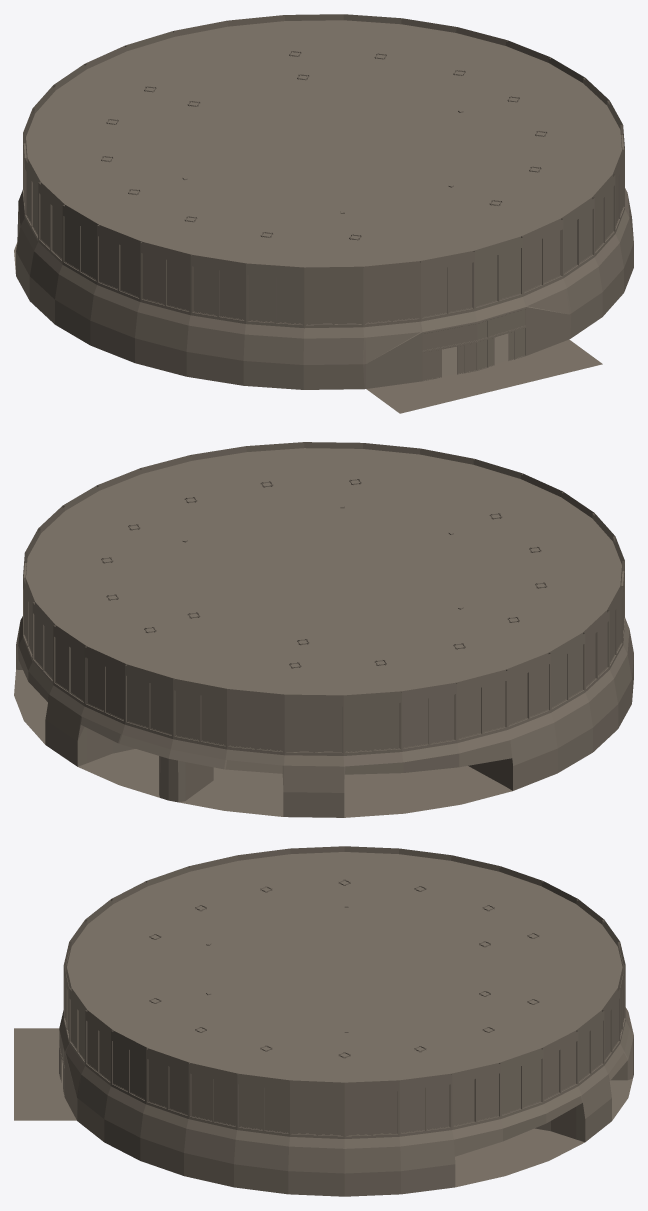
The model's file is Shopping_Mall_Entrance.fbx.
The picture shows the model from 3 angles, top to bottom: view 1: azimuth 30°, elevation 25°; view 2: azimuth 150°, elevation 25°; view 3: azimuth 270°, elevation 25°; orthographic projection. The views are drawn at different scales.
Parts seen in each view (by area): view 1: Shopping Mall Entrance; view 2: Shopping Mall Entrance; view 3: Shopping Mall Entrance.
Boxes of the visible parts, x1,y1,x2,y2 form: Shopping Mall Entrance: (14, 14, 633, 413); Shopping Mall Entrance: (14, 442, 633, 817); Shopping Mall Entrance: (14, 846, 633, 1196).
Bounding box in the file's own units: 3.86 × 0.8055 × 4.13.
